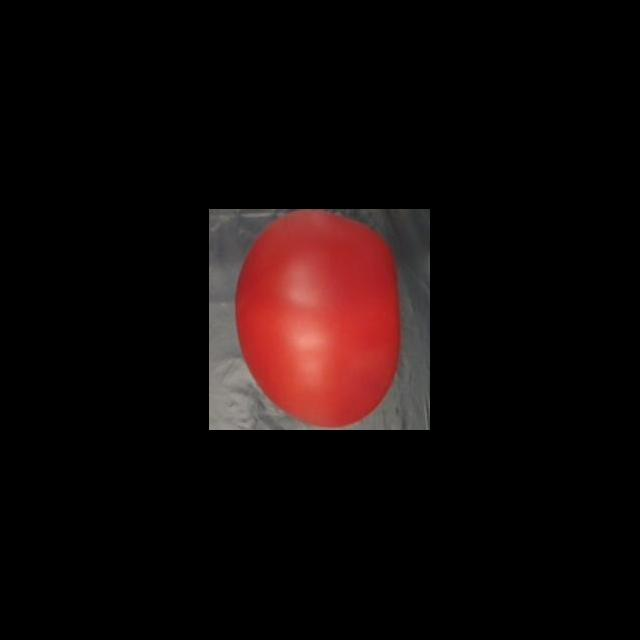tomato: (234, 210, 406, 430)
